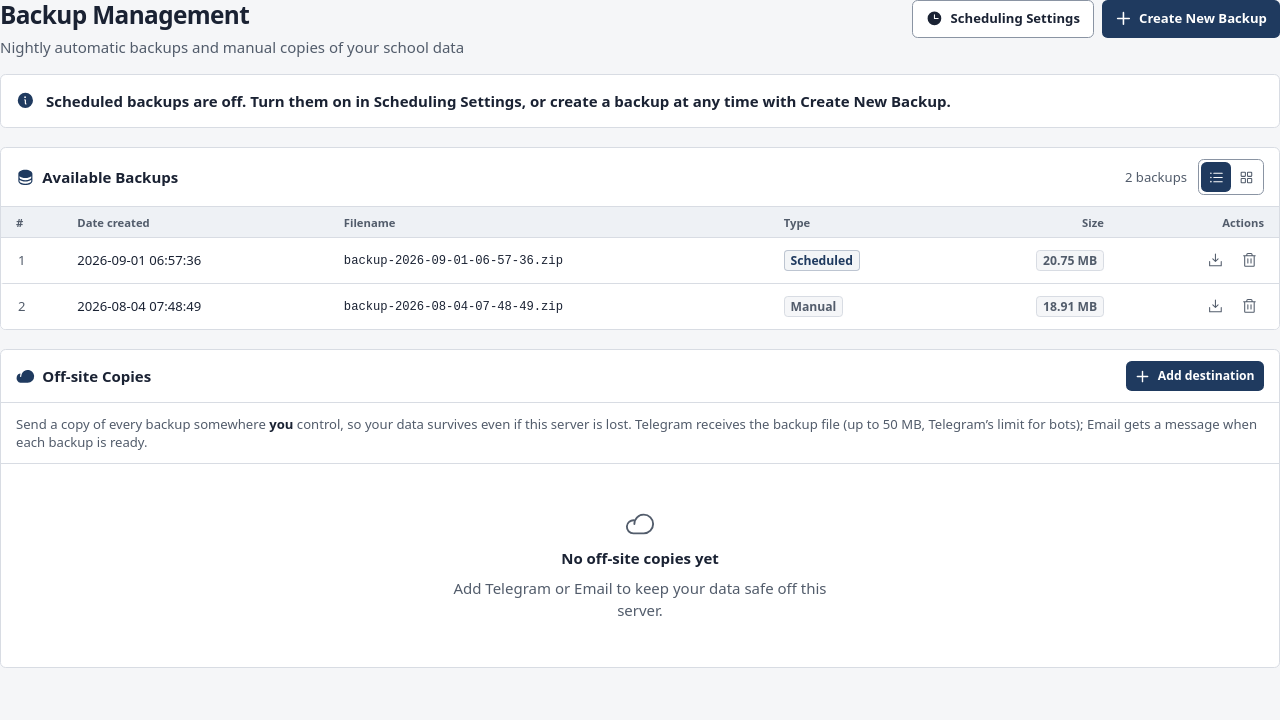
BackupManagementPage › asks for a name and Telegram details before adding a destination
This screenshot has width=1280, height=720.
Click the button "Add destination" at point(1195, 376), box x1=1126 y1=361 x2=1264 y2=391
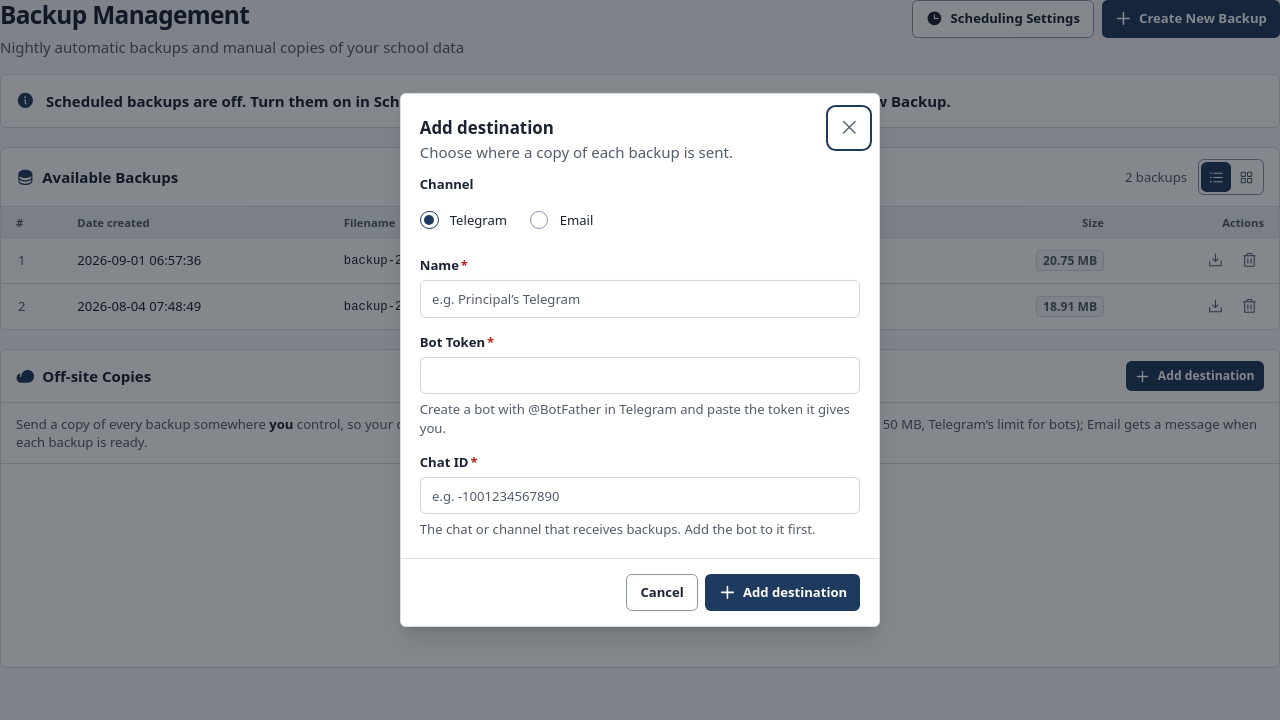
Click the button "Add destination" at point(783, 592), box x1=705 y1=574 x2=860 y2=611
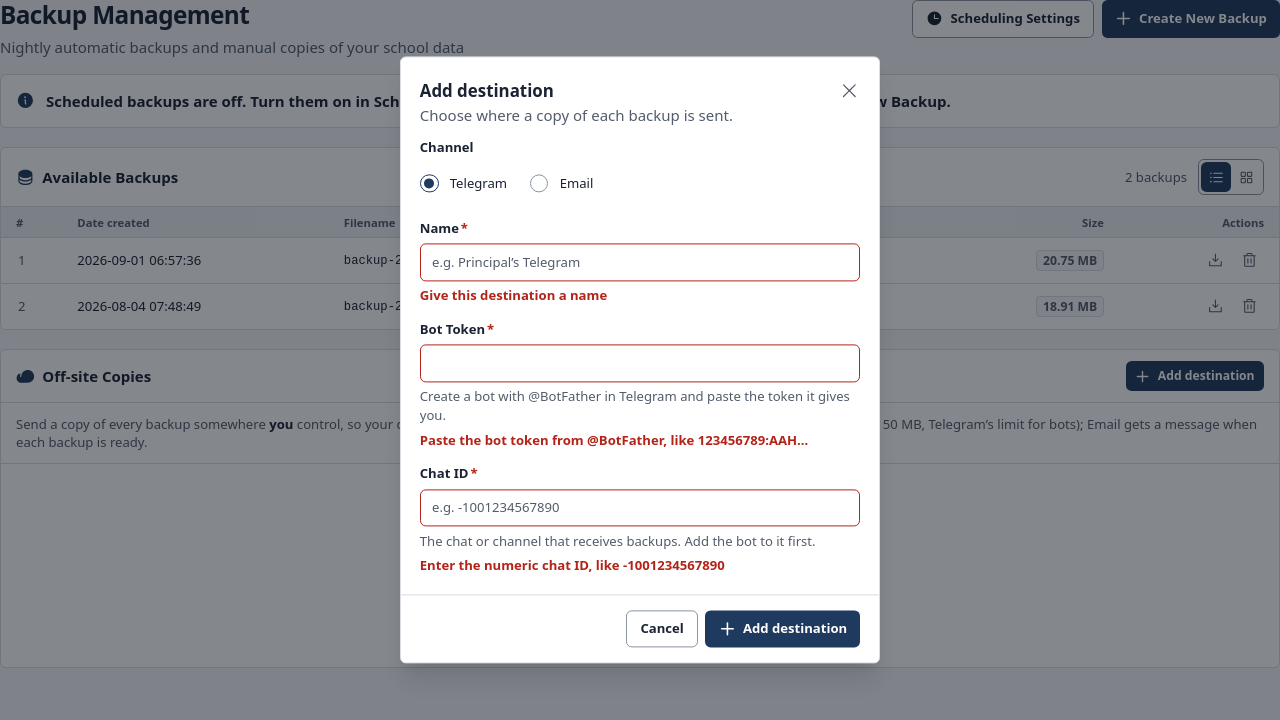
Expected: the text "Give this destination a name" is shown, x1=420 y1=287 x2=607 y2=305
Expected: the text "Paste the bot token from @BotFather, like 123456789:AAH…" is shown, x1=420 y1=431 x2=860 y2=450
